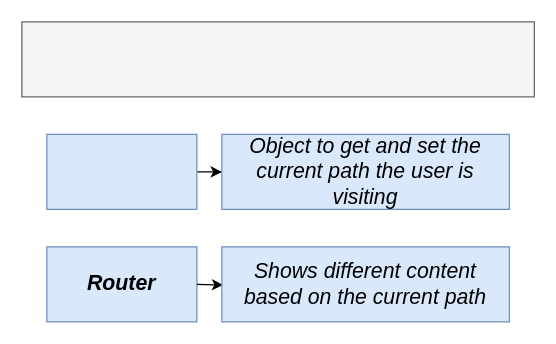
Some shapes in this 556 by 344 pixel diagram are drawn without their labels. The shapes that lost their labels are listed below. From the top down, each one's box as (x1, y1, x2, y2) in pixels, then its label:
(21, 21, 534, 97): Routing libraries decide what content to show on the screen
(46, 133, 197, 209): History
